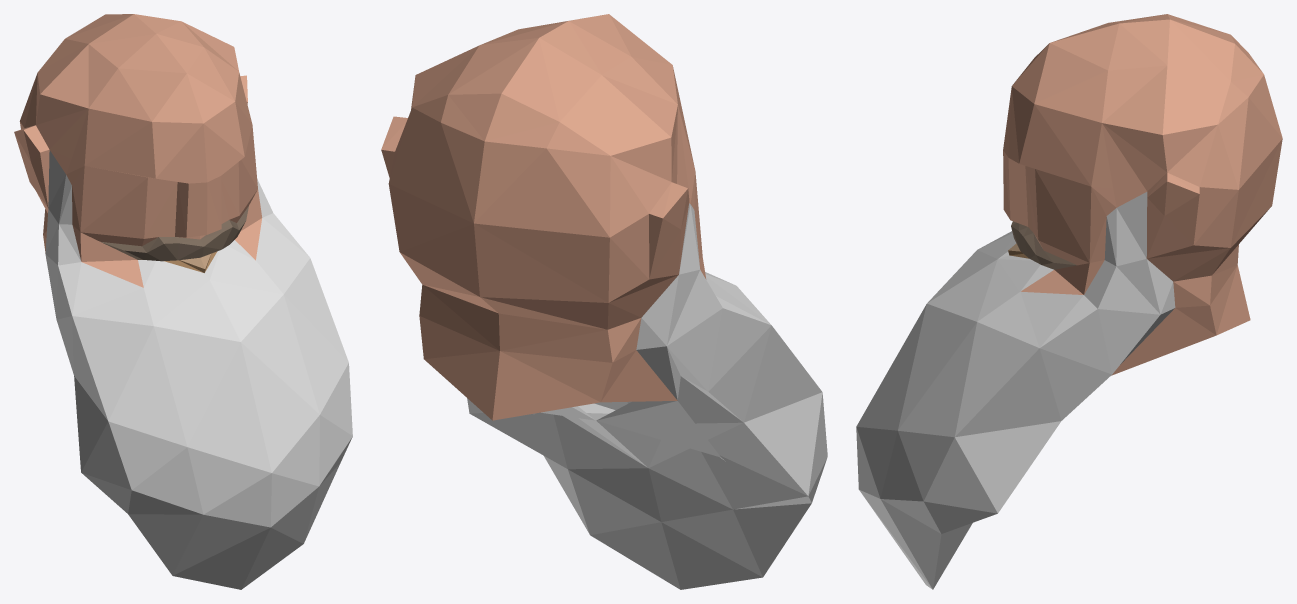
The model's file is WarriorHead.dae.
3 views of the same model, side by side, from view 1: azimuth 30°, elevation 25°; view 2: azimuth 150°, elevation 25°; view 3: azimuth 270°, elevation 25° (orthographic). The views are drawn at different scales.
Parts seen in each view (by area): view 1: Head; view 2: Head; view 3: Head.
Part boxes in pixels (x1,y1,x2,y2): Head: [14, 14, 352, 589]; Head: [381, 14, 827, 589]; Head: [856, 14, 1282, 589].
Bounding box in the file's own units: 1.86 × 2.35 × 3.44.
